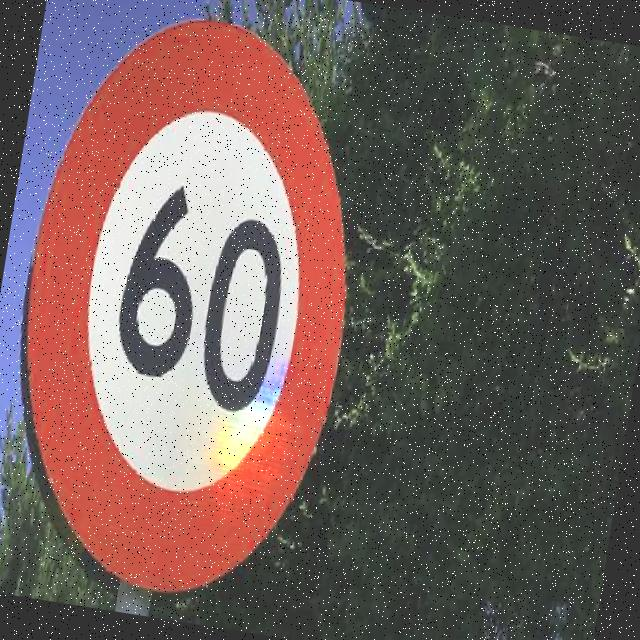Ograniczenie predkosci do 60: (0, 20, 393, 595)
